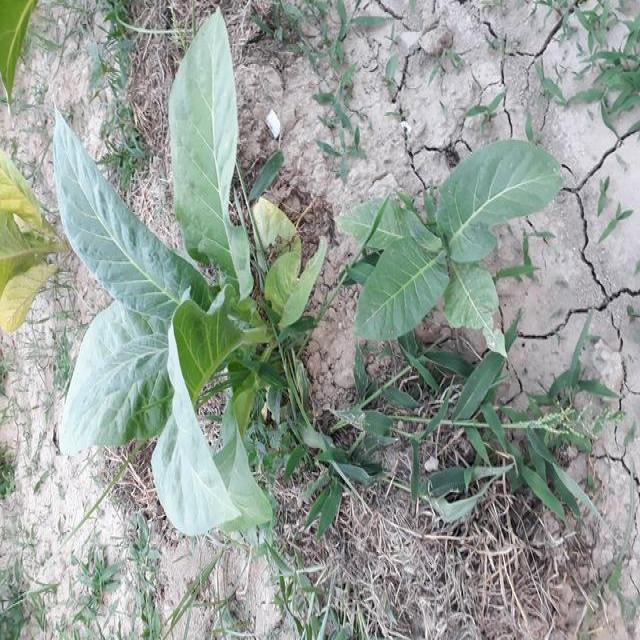crop: (43, 9, 291, 557)
